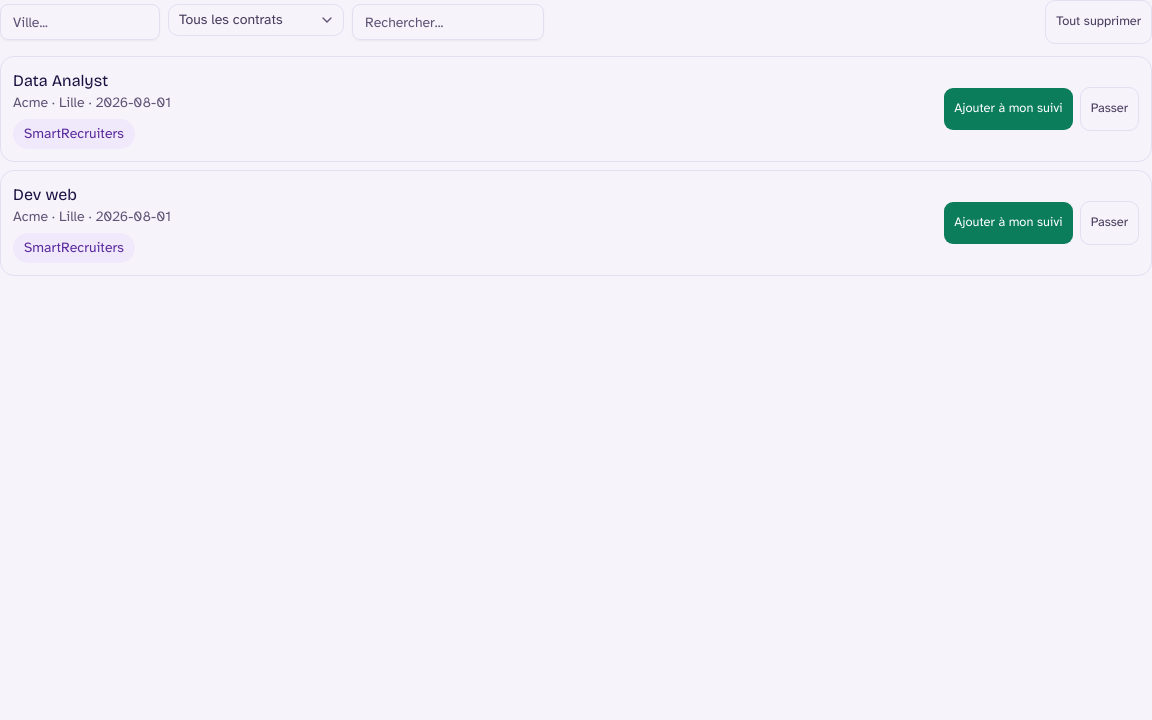
ReviewQueueManager — tout supprimer (relancer une campagne avec de nouveaux filtres) › agrees the confirmation text with several offers ('2 offres seront')
Click the button "Tout supprimer" at point(1099, 22), box x1=1045 y1=0 x2=1151 y2=44
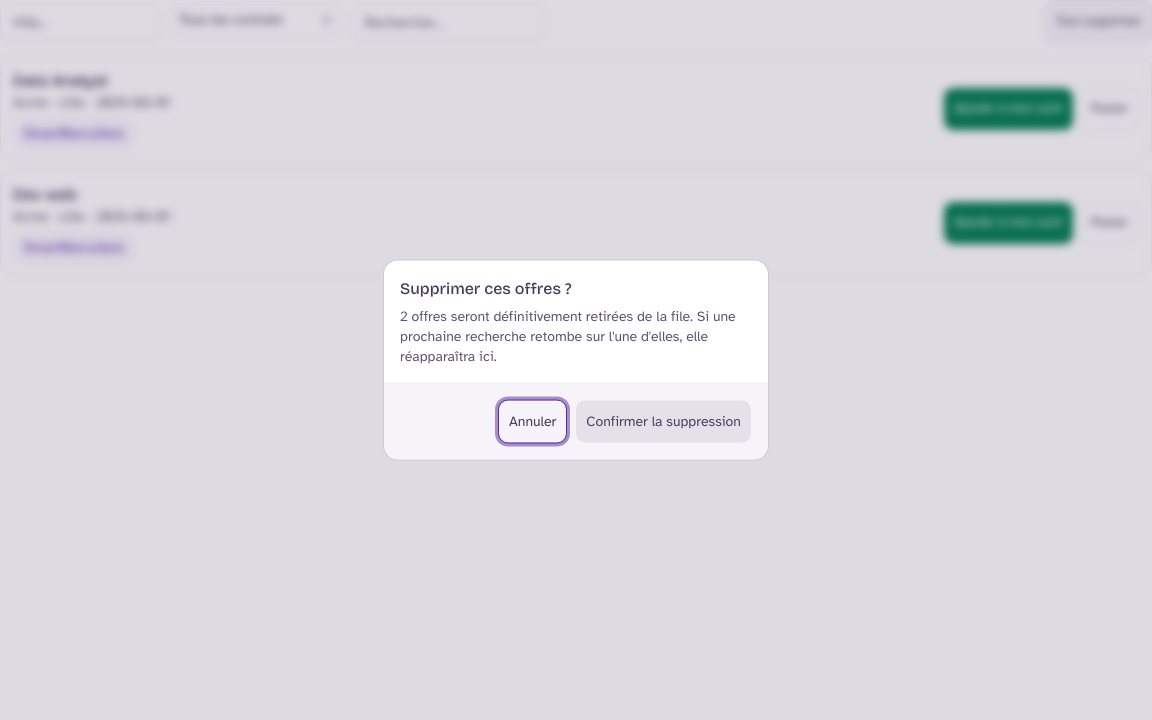
expect the dialog shows "2 offres seront définitivement retirées de la file.": met, box x1=400 y1=308 x2=736 y2=364
